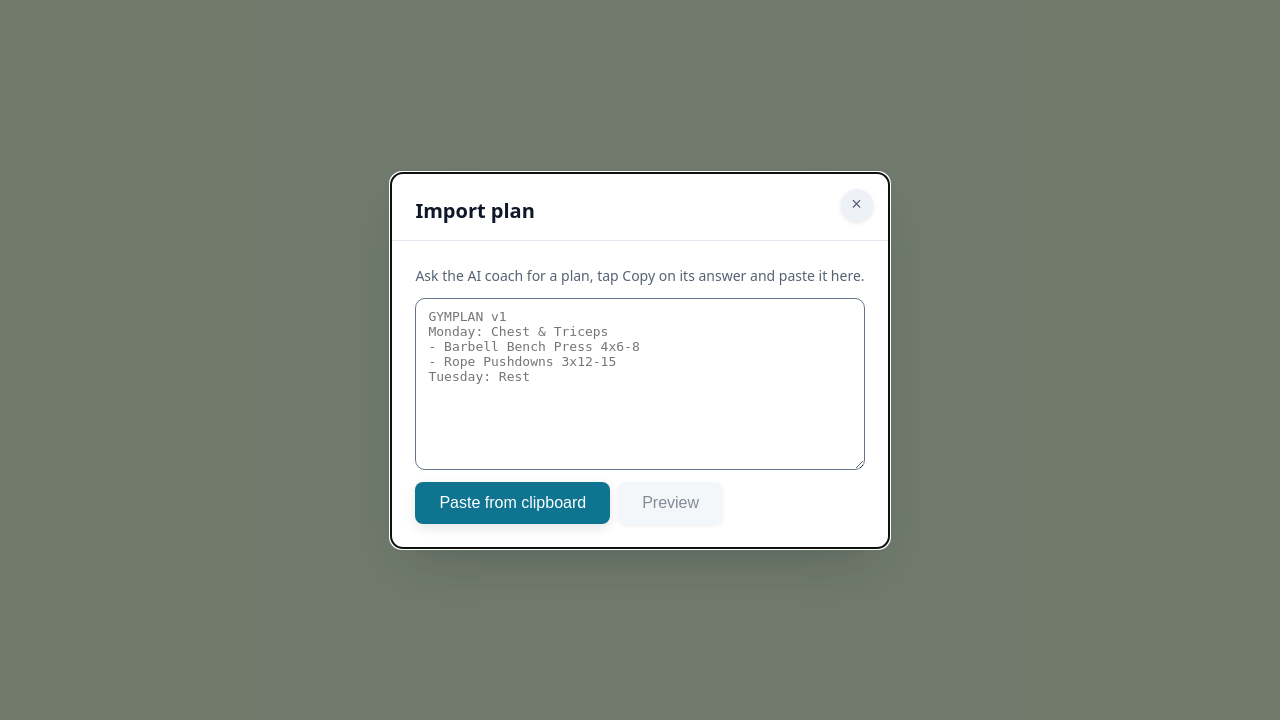
Test case: ImportPlanModal target week › names the viewed week and keeps the picker behind Change week
Step 1. Replace the text in the text box named "Paste the plan here" with "GYMPLAN v1 Monday: Chest & Triceps - Barbell Bench Press 4x6-8 - Barbel Bench Pres 3x8 - Farmer's Wa 3x40 - custom: Sled Push with rope 4x20 Tuesday: Rest Wednesday: Legs - Barbell Squats 4x6-8 Thursd" → (640, 384), box [415,298,864,470]
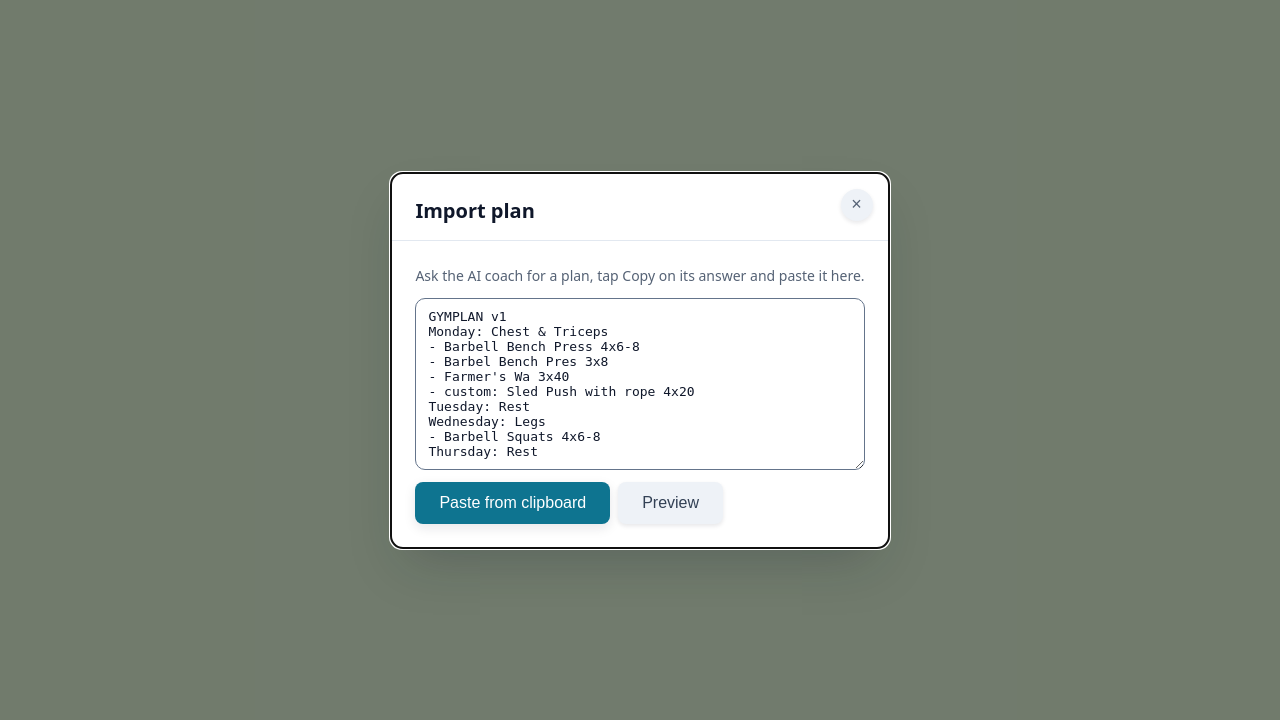
Step 2. Click the button "Preview" → (671, 502), box [618,482,723,524]
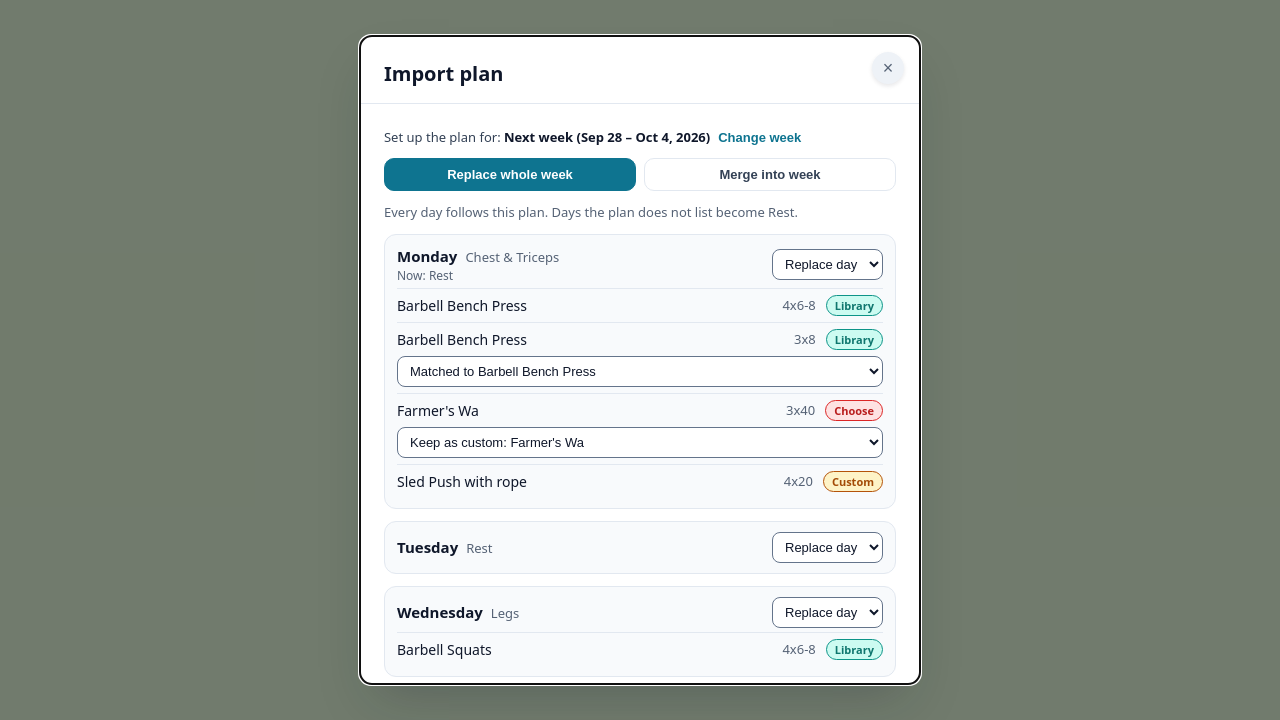
Expected: the text "Next week (Sep 28 – Oct 4, 2026)" is shown, [504,128,710,146]
Step 3. Click the button "Change week" → (760, 138), box [718,130,801,145]
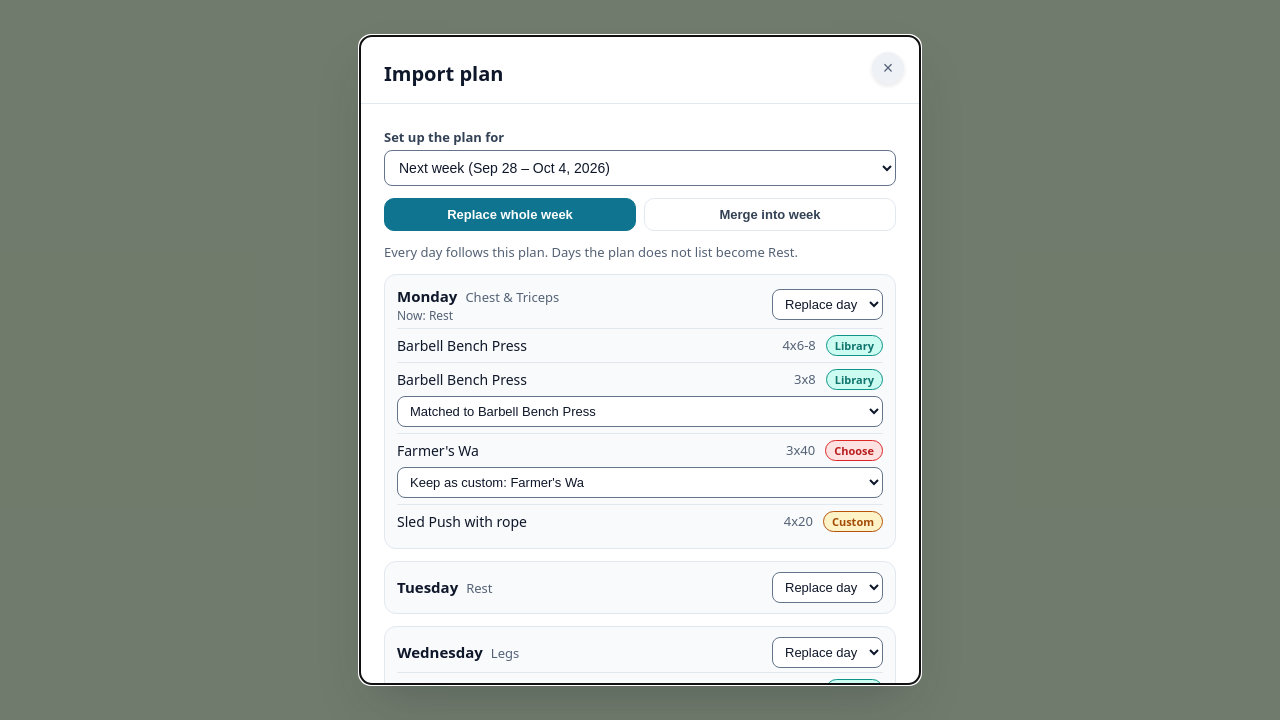
Expected: the dropdown labelled "Set up the plan for" shows "Next week (Sep 28 – Oct 4, 2026)", [384,150,896,186]
